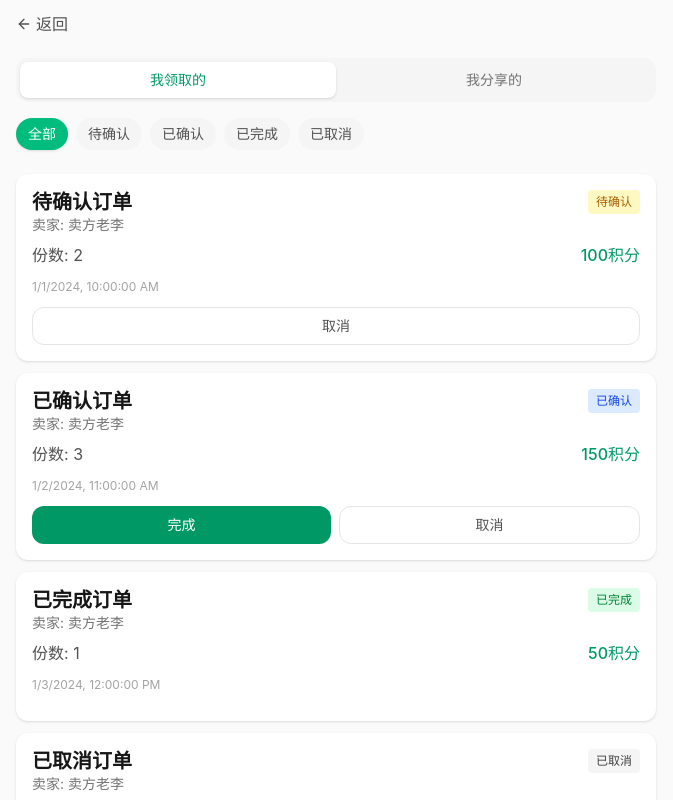
Scenario: SharedKitchen 订单列表与状态操作 › 切换至 seller Tab 显示卖家视角（买家: xxx）并重新加载
expect the heading "待确认订单" is shown: met, box [32, 190, 132, 214]
Note: 切换到 seller Tab
Click the button "我分享的" at (494, 80), box [336, 62, 652, 98]
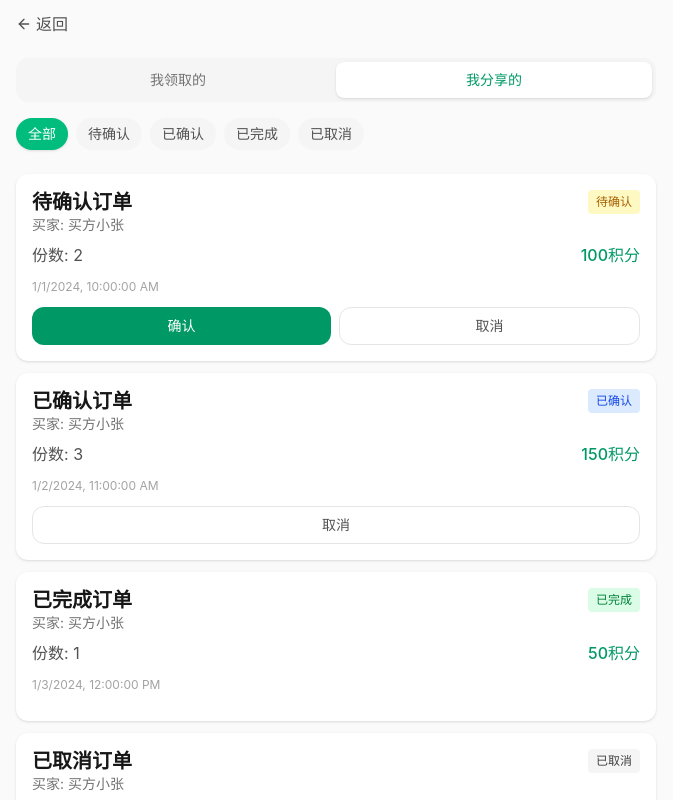
expect the text "买家: 买方小张" below "待确认订单" is shown: met, box [32, 216, 124, 233]
